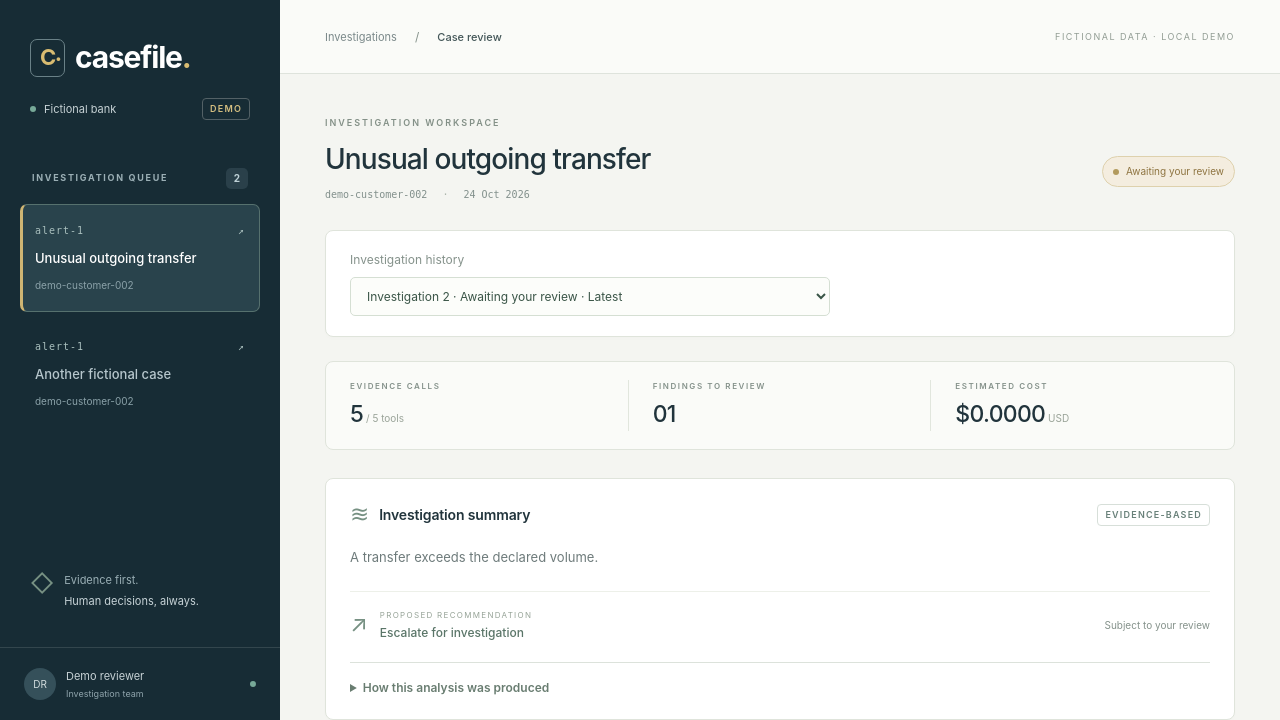
investigation history › resets the selected history when switching cases
Select "Investigation 1 · Review complete" in the dropdown labelled "Investigation history" at [590, 296], box [350,276,830,316]
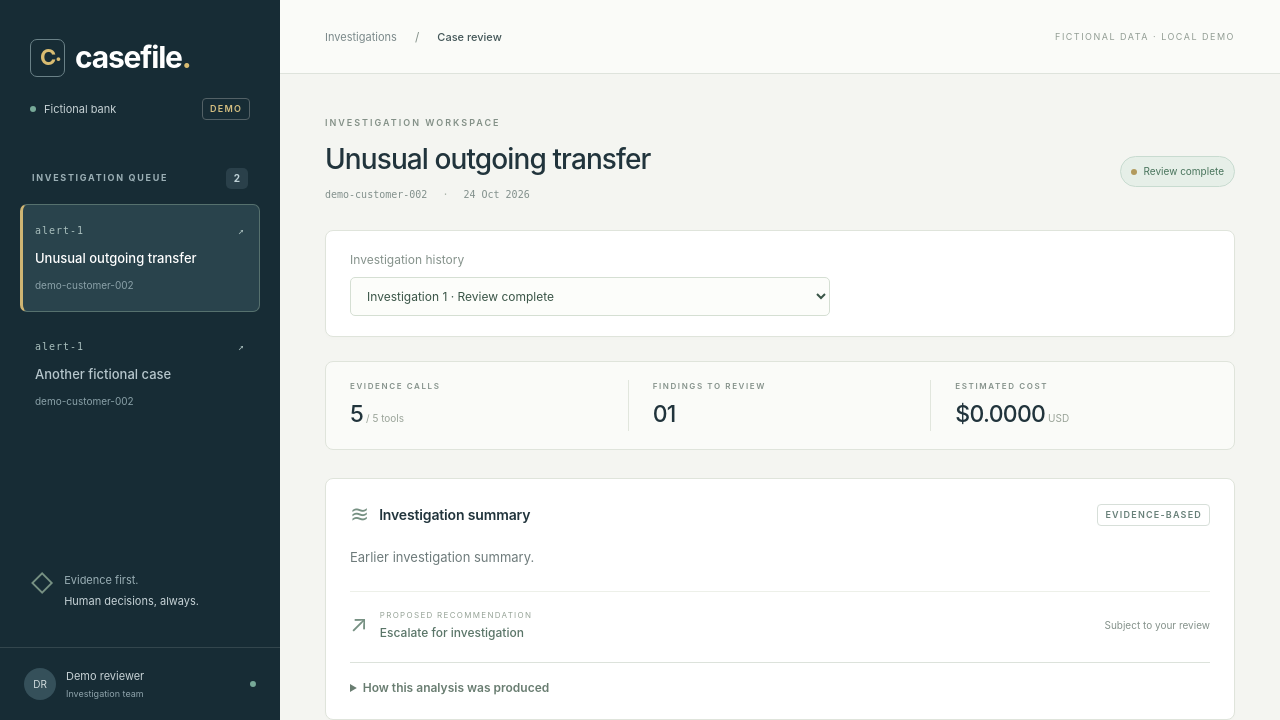
Result: the text "Earlier investigation summary." is shown at [350,549,534,565]
Click the button "alert-1 ↗ Another fictional case demo-customer-002" at [140, 374], box [20,320,260,428]
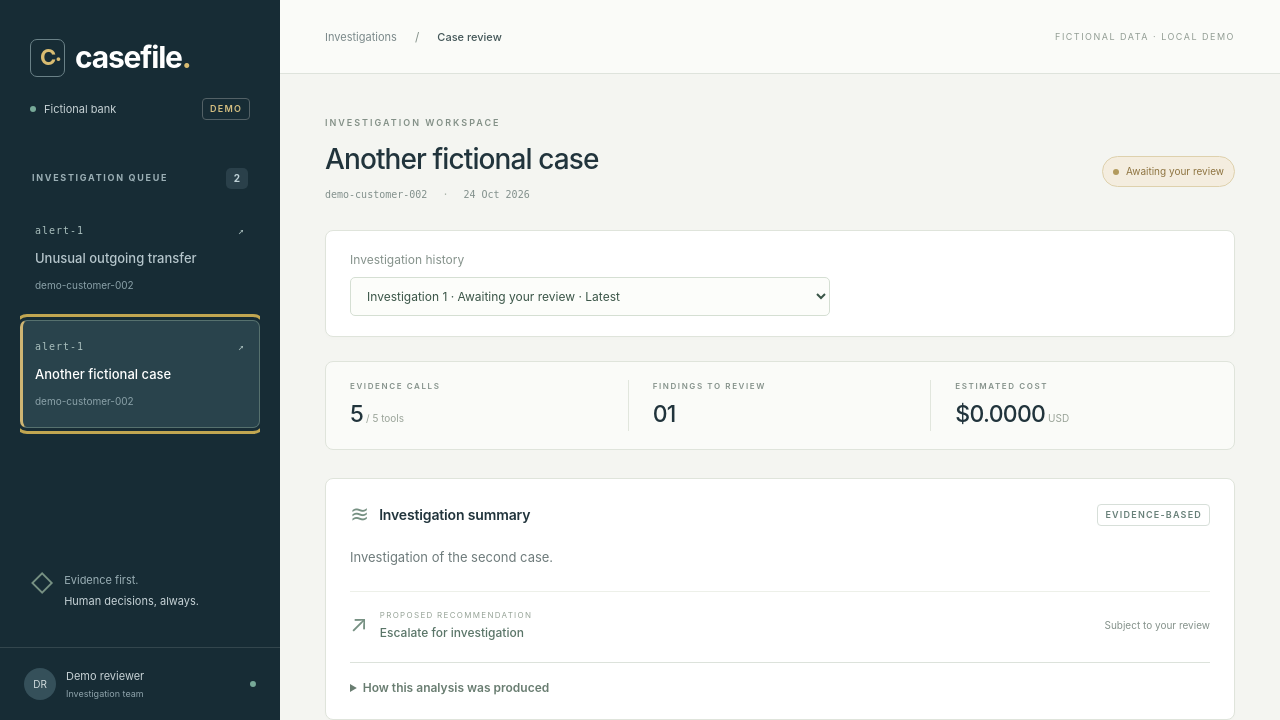
Result: the text "Investigation of the second case." is shown at [350,549,553,565]
Result: the dropdown labelled "Investigation history" shows "Investigation 1 · Awaiting your review · Latest" at [350,276,830,316]
